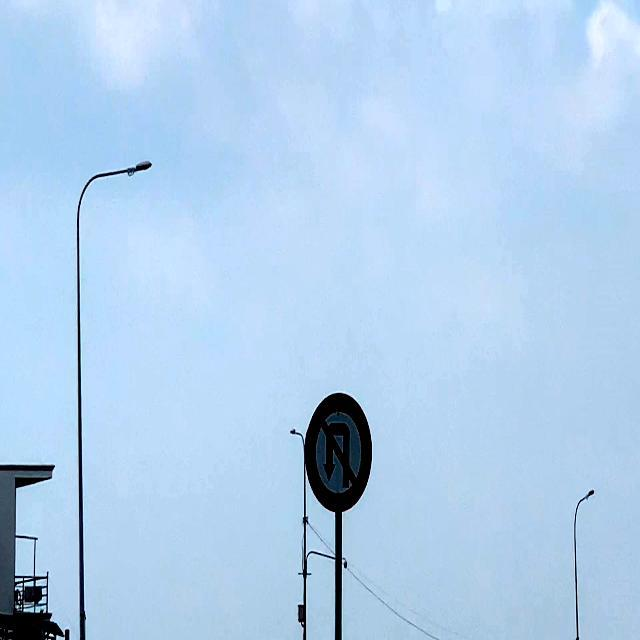P-124a1: (304, 389, 372, 514)
